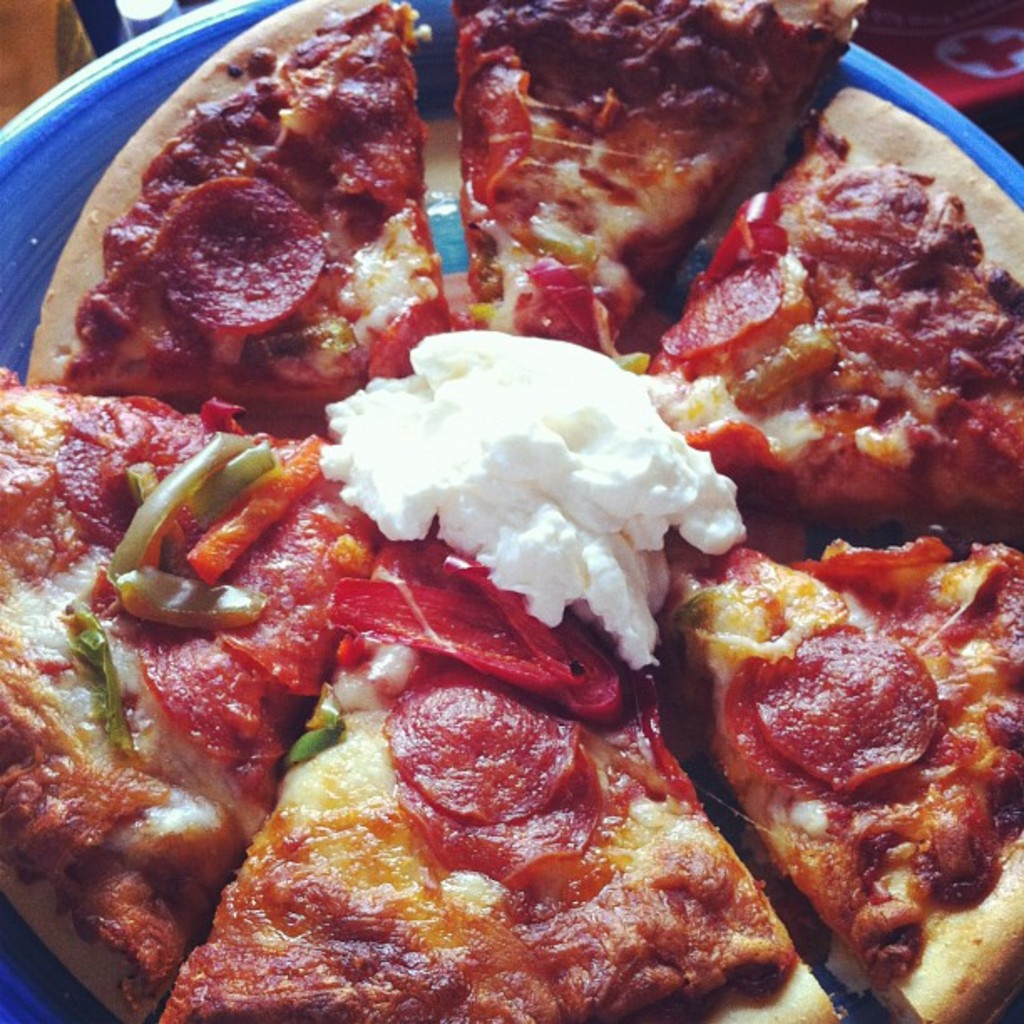Pizza: (0, 33, 990, 1024), (36, 0, 463, 428), (478, 0, 865, 366)
